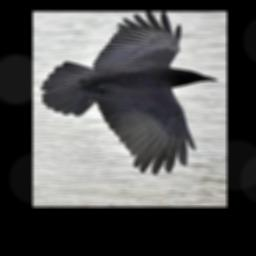Crow: (40, 11, 217, 174)
